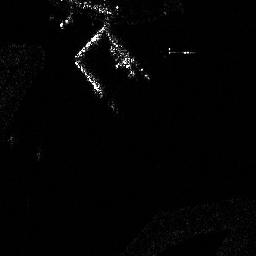ship: (109, 45, 135, 78)
